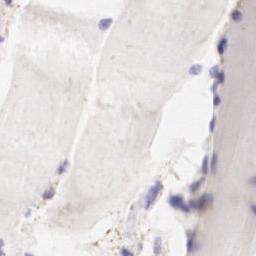nucleus: (144, 181, 163, 210), (167, 194, 190, 213), (189, 178, 206, 193), (211, 66, 224, 84), (210, 152, 219, 175), (217, 37, 228, 55), (57, 161, 70, 175), (98, 19, 112, 31), (153, 237, 161, 256), (202, 156, 210, 174), (231, 10, 242, 22), (212, 94, 221, 108), (207, 117, 216, 131), (190, 65, 202, 75), (121, 249, 133, 256), (187, 238, 194, 250), (191, 200, 201, 208), (42, 188, 49, 198), (50, 188, 56, 199), (202, 194, 213, 200), (251, 175, 256, 186), (5, 1, 12, 8), (25, 209, 31, 217), (252, 206, 256, 214), (24, 253, 34, 256), (1, 36, 4, 42), (1, 239, 3, 248), (1, 250, 4, 256)
positive_cell: (201, 196, 213, 210)
